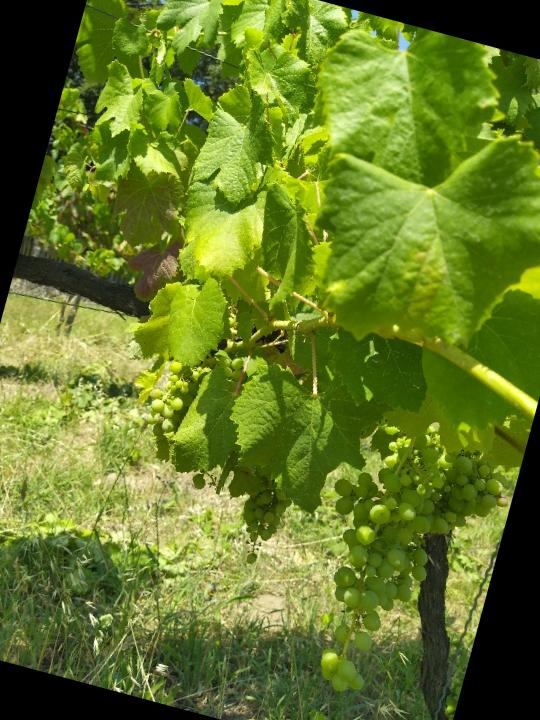grape: (274, 410, 516, 720)
